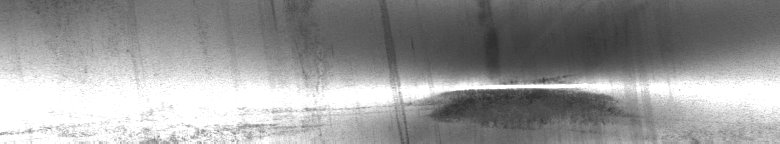ke: (425, 76, 613, 112)
